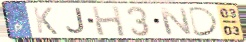3: (125, 4, 151, 38)
D: (187, 6, 221, 37)
H: (89, 4, 128, 38)
J: (65, 7, 87, 35)
K: (30, 5, 59, 36)
N: (157, 6, 195, 36)
